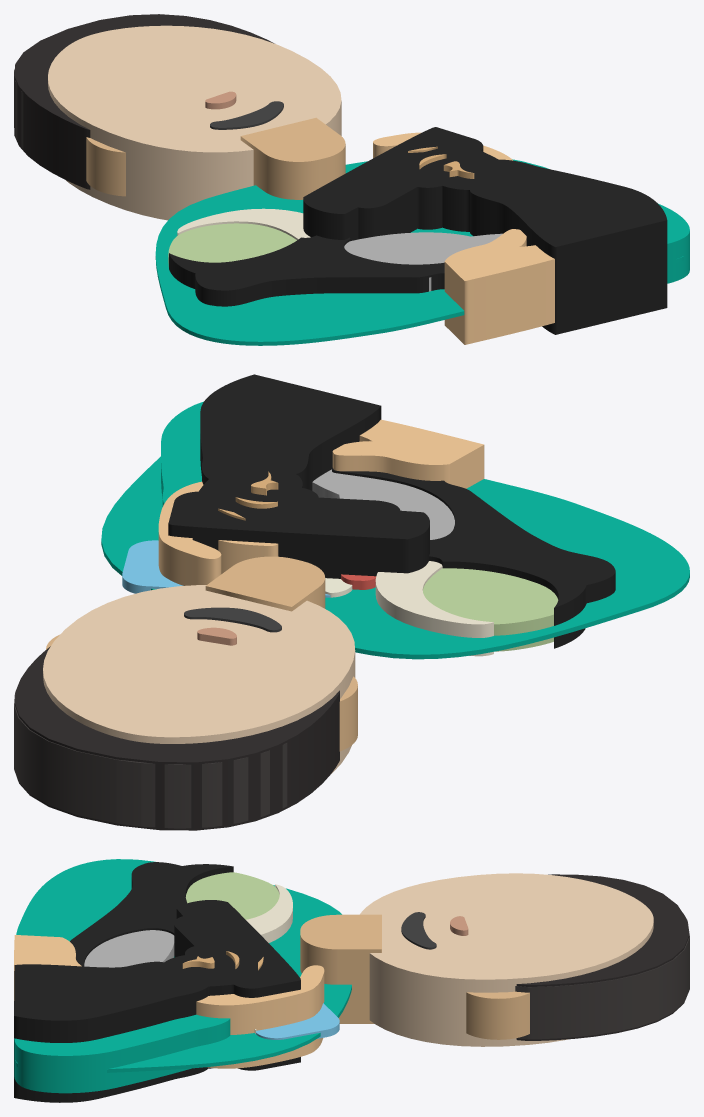
The model's file is emoji_u1f468_1f3fb_200d_1f37c.glb.
3 views of the same model, one above another, from view 1: azimuth 30°, elevation 25°; view 2: azimuth 150°, elevation 25°; view 3: azimuth 270°, elevation 25° (orthographic). The views are drawn at different scales.
Parts seen in each view (by area): view 1: emoji_u1f468_1f3fb_200d_1f37c; view 2: emoji_u1f468_1f3fb_200d_1f37c; view 3: emoji_u1f468_1f3fb_200d_1f37c.
Part boxes in pixels (x1,y1,x2,y2): emoji_u1f468_1f3fb_200d_1f37c: [14, 14, 689, 345]; emoji_u1f468_1f3fb_200d_1f37c: [14, 374, 689, 830]; emoji_u1f468_1f3fb_200d_1f37c: [14, 859, 689, 1102].
Size of the model in its own units: 0.0246 by 0.005 by 0.0328.
